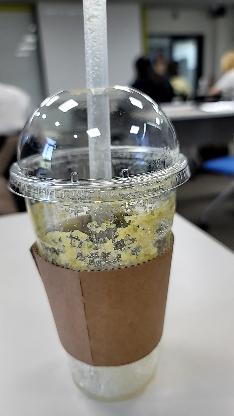Plastic Cup: (11, 86, 191, 408), (7, 86, 191, 204)
